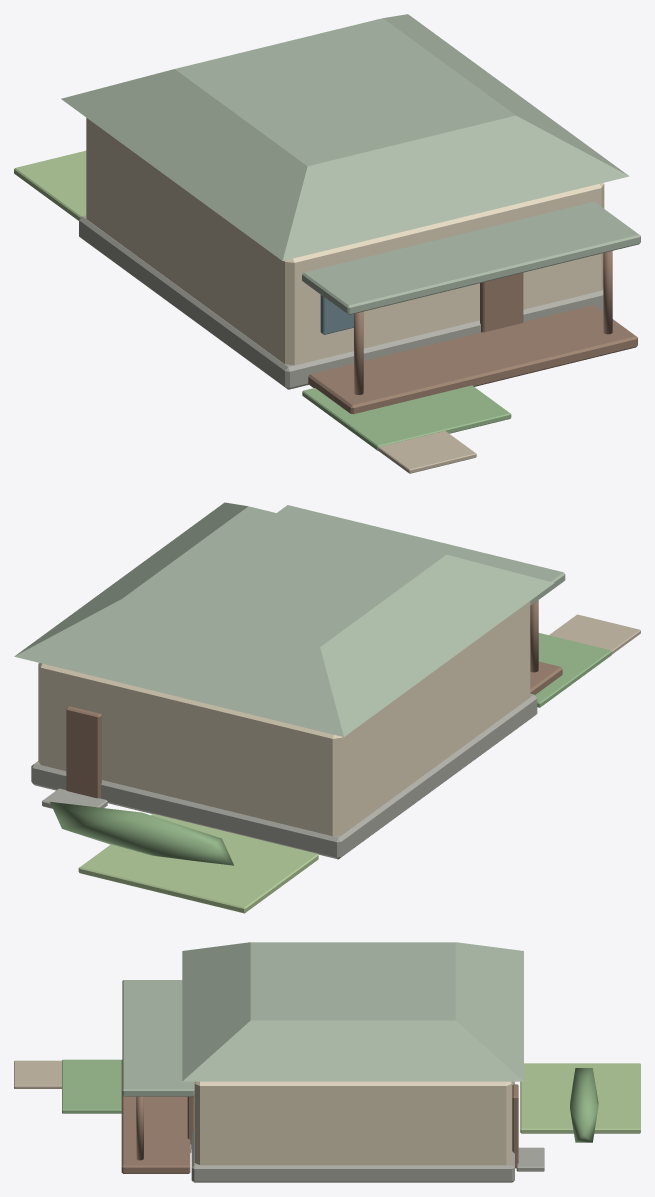
3 renders of one model, top to bottom at view 1: azimuth 30°, elevation 25°; view 2: azimuth 150°, elevation 25°; view 3: azimuth 270°, elevation 25°, orthographic. The views are drawn at different scales.
Parts seen in each view (by area): view 1: MainRoof, MainBody, VerandaCanopy, VerandaSlab, StonePlinth, FrontGreenVerge, RearYardPatch, Driveway, PublicDoor, FrontWindow1, VerandaPost, VerandaPost.001; view 2: MainRoof, MainBody, StonePlinth, RearYardPatch, RearHedge, VerandaCanopy, ServiceDoor, FrontGreenVerge, Driveway, ServiceStep, VerandaSlab, VerandaPost.001; view 3: MainRoof, MainBody, VerandaCanopy, RearYardPatch, StonePlinth, VerandaSlab, FrontGreenVerge, RearHedge, Driveway, ServiceStep, ServiceDoor, VerandaPost.
Part boxes in pixels (x1,y1,x2,y2): MainRoof: (61, 14, 629, 260); MainBody: (86, 118, 604, 365); VerandaCanopy: (302, 201, 640, 314); VerandaSlab: (308, 305, 637, 414); StonePlinth: (79, 215, 603, 389); FrontGreenVerge: (302, 385, 511, 450); RearYardPatch: (14, 150, 86, 220); Driveway: (378, 431, 476, 473); PublicDoor: (480, 272, 523, 332); FrontWindow1: (320, 295, 353, 334); VerandaPost: (603, 251, 612, 334); VerandaPost.001: (354, 311, 363, 394); MainRoof: (14, 502, 553, 736); MainBody: (38, 601, 530, 836); StonePlinth: (31, 693, 537, 859); RearYardPatch: (78, 813, 318, 913); RearHedge: (50, 801, 233, 865); VerandaCanopy: (277, 505, 565, 605); ServiceDoor: (66, 706, 101, 798); FrontGreenVerge: (535, 633, 611, 707); Driveway: (549, 614, 640, 654); ServiceStep: (42, 788, 107, 808); VerandaSlab: (530, 661, 562, 694); VerandaPost.001: (530, 600, 538, 672); MainRoof: (182, 942, 523, 1081); MainBody: (194, 1081, 511, 1165); VerandaCanopy: (122, 980, 194, 1096); RearYardPatch: (520, 1063, 640, 1133); StonePlinth: (191, 1081, 514, 1182); VerandaSlab: (121, 1060, 190, 1173); FrontGreenVerge: (62, 1059, 121, 1113); RearHedge: (570, 1068, 598, 1142); Driveway: (14, 1060, 61, 1088); ServiceStep: (516, 1147, 544, 1171); ServiceDoor: (512, 1084, 518, 1168); VerandaPost: (136, 1096, 143, 1160).
Bounding box in the file's own units: 8.97 × 4.52 × 18.19.
